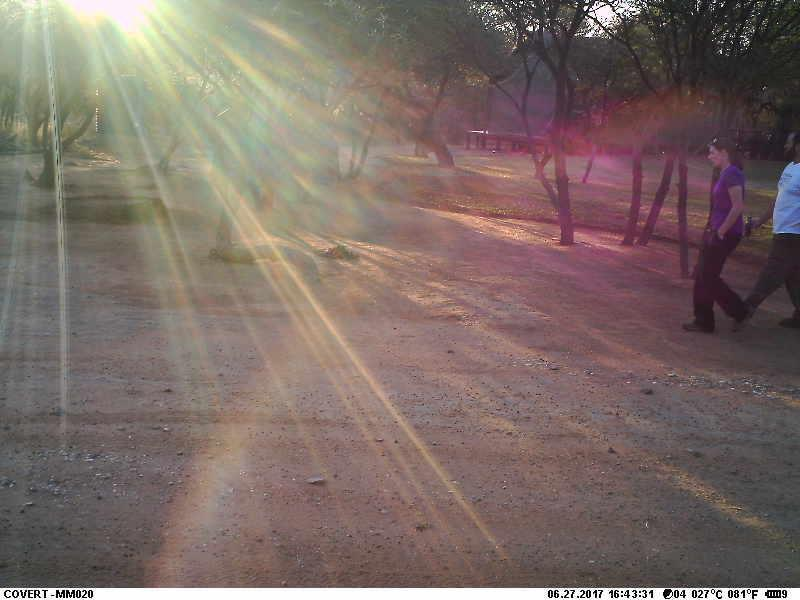Person: (695, 130, 751, 344), (766, 130, 799, 349)
